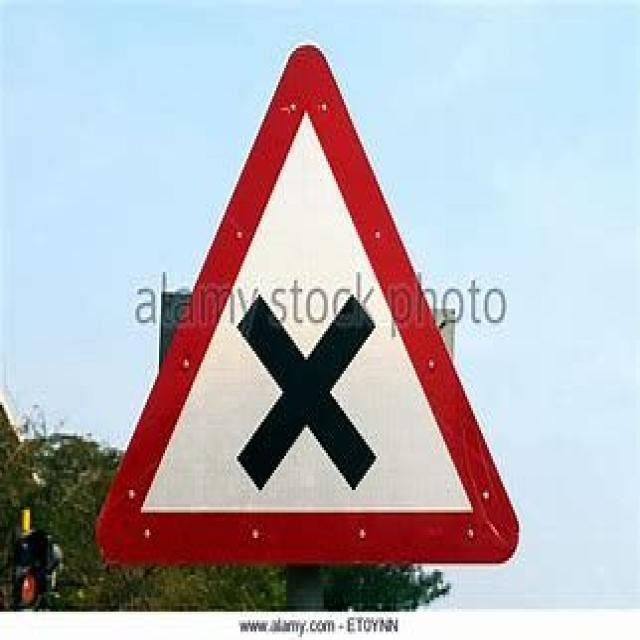CROSS_ROAD: (94, 41, 518, 568)
